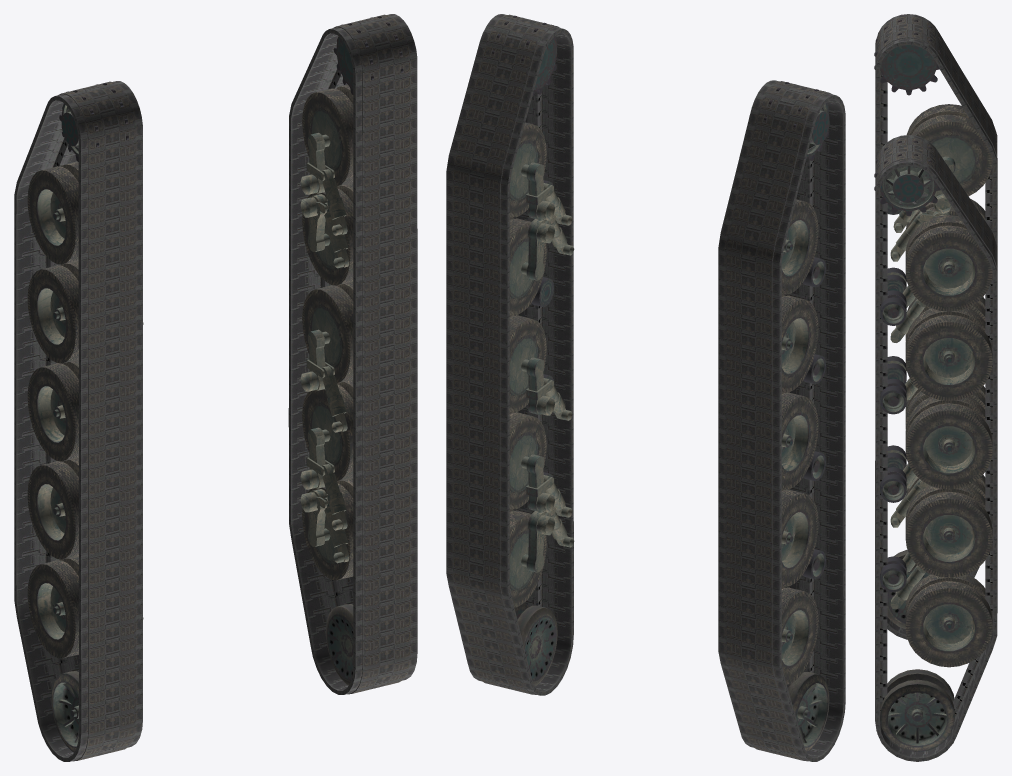
File: Chassis.glb
3 renders of one model, left to right at view 1: azimuth 30°, elevation 25°; view 2: azimuth 150°, elevation 25°; view 3: azimuth 270°, elevation 25°, orthographic. The views are drawn at different scales.
Visible parts, largest first — view 1: set_1_group_0, set_0_group_0, set_3_group_0, set_2_group_0; view 2: set_1_group_0, set_0_group_0, set_3_group_0, set_2_group_0; view 3: set_3_group_0, set_0_group_0, set_2_group_0, set_1_group_0.
Boxes of the visible parts, left/top/right/bottom form: set_1_group_0: left=14, top=81, right=142, bottom=761; set_0_group_0: left=288, top=14, right=417, bottom=694; set_3_group_0: left=300, top=16, right=403, bottom=685; set_2_group_0: left=27, top=83, right=143, bottom=752; set_1_group_0: left=718, top=80, right=845, bottom=761; set_0_group_0: left=446, top=14, right=573, bottom=695; set_3_group_0: left=492, top=15, right=574, bottom=685; set_2_group_0: left=764, top=82, right=829, bottom=752; set_3_group_0: left=874, top=140, right=992, bottom=751; set_0_group_0: left=875, top=135, right=997, bottom=761; set_2_group_0: left=874, top=19, right=992, bottom=628; set_1_group_0: left=875, top=14, right=997, bottom=639.
Size of the model in its own units: 3.27 by 6.19 by 1.15.
Materials: 4 (4 with a texture image).
